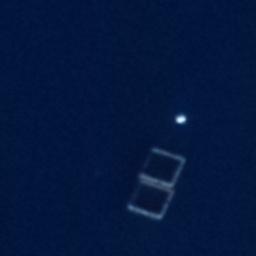square_solid: (136, 143, 189, 192), (125, 177, 178, 222)
